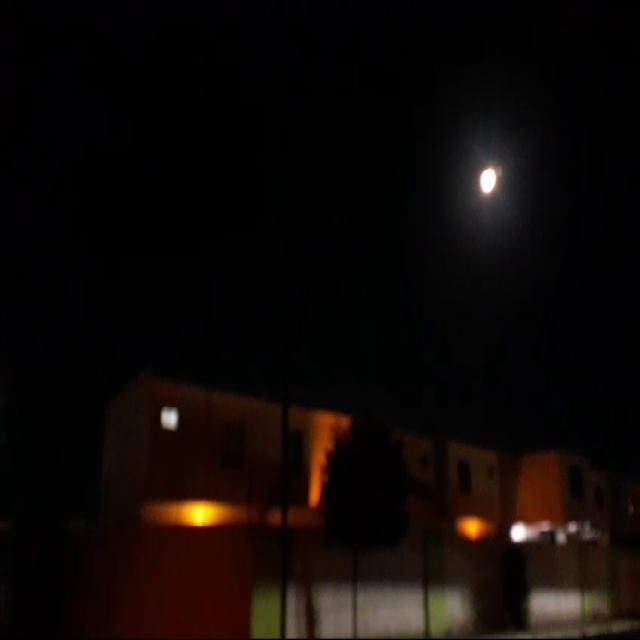moon: (480, 162, 500, 196)
